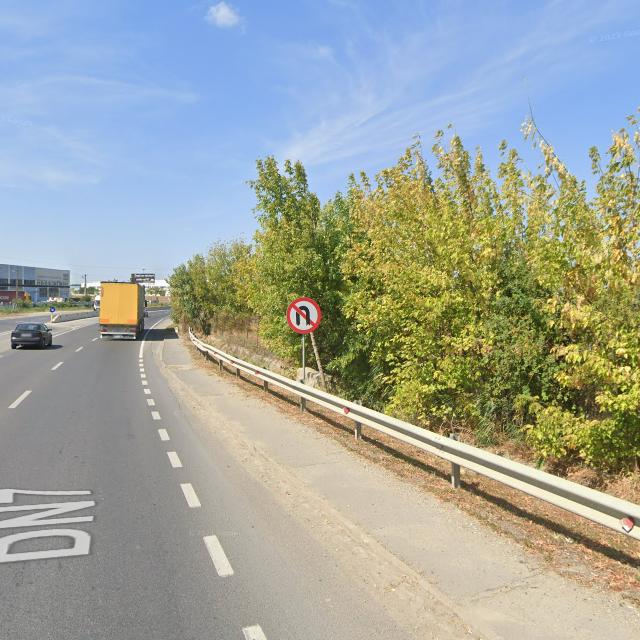forb_u_turn: (286, 298, 321, 334)
